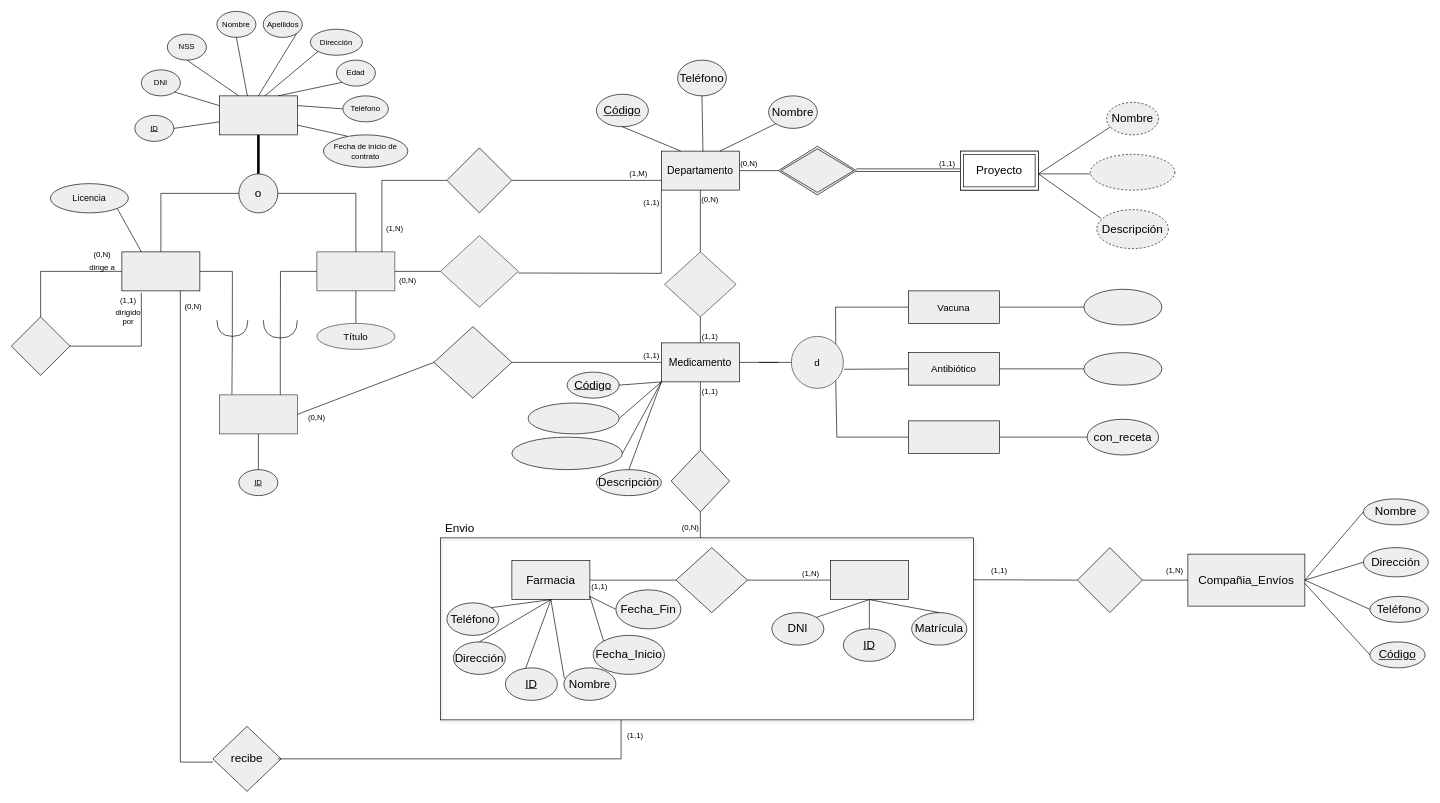
This 1440x803 diagram has some shape labels left out. Each missing label, with the centre of its shape:
Analgésico: the point at 953,436
Camionero: the point at 869,580
dirige: the point at 479,271
dirige_a: the point at 40,345
encargada: the point at 1109,580
envia: the point at 700,480
fabrica: the point at 700,284
Farmacéutico: the point at 160,271
Fecha_caducidad: the point at 566,453
Fecha_creación: the point at 573,418
Investigador: the point at 355,271
Nº_Secuencial: the point at 1132,172
Realiza: the point at 817,170
supervisa: the point at 472,362
Supervisor: the point at 258,414
Temperatura: the point at 1122,307
Tipo: the point at 1122,368
trabaja: the point at 479,180
Trabajador: the point at 258,115
transporta_a: the point at 711,580
